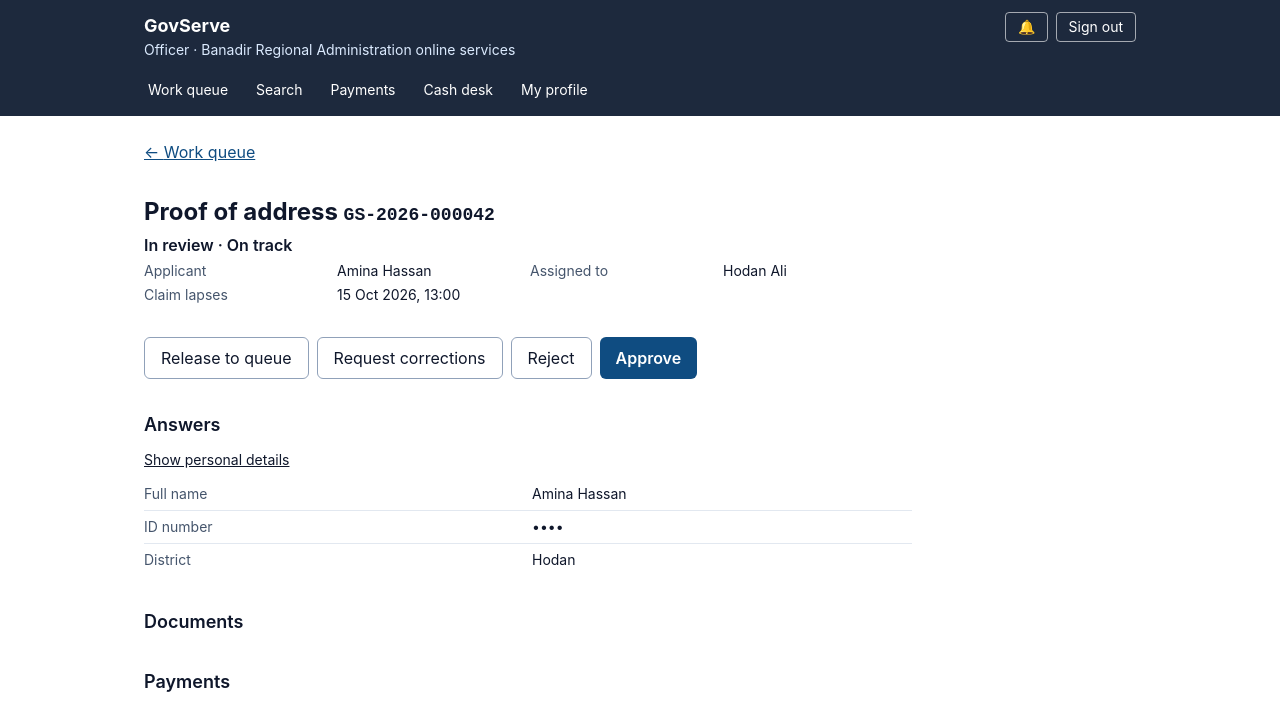
officer review page › should send flagged items when requesting corrections
The width and height of the screenshot is (1280, 706).
Click the button "Request corrections". click: (410, 358)
box: left=317, top=337, right=503, bottom=379
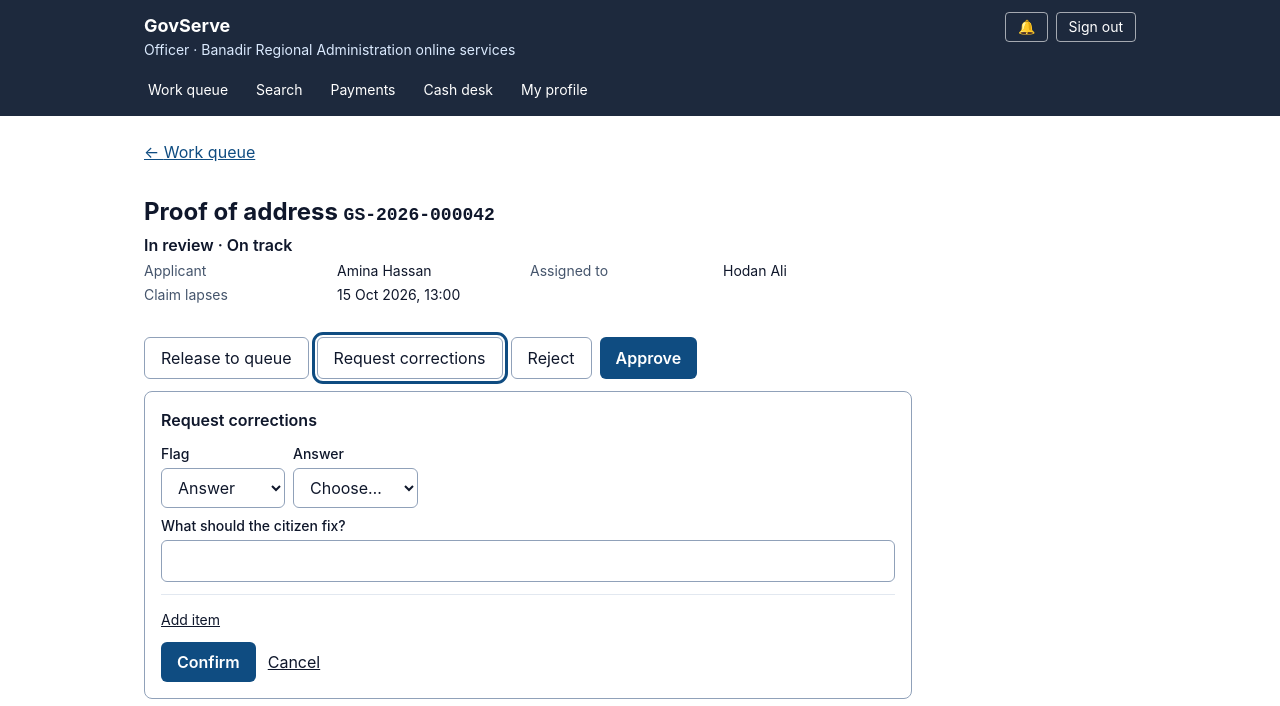
Select "District" in the dropdown labelled "Answer". click: (356, 488)
box: left=293, top=468, right=418, bottom=508
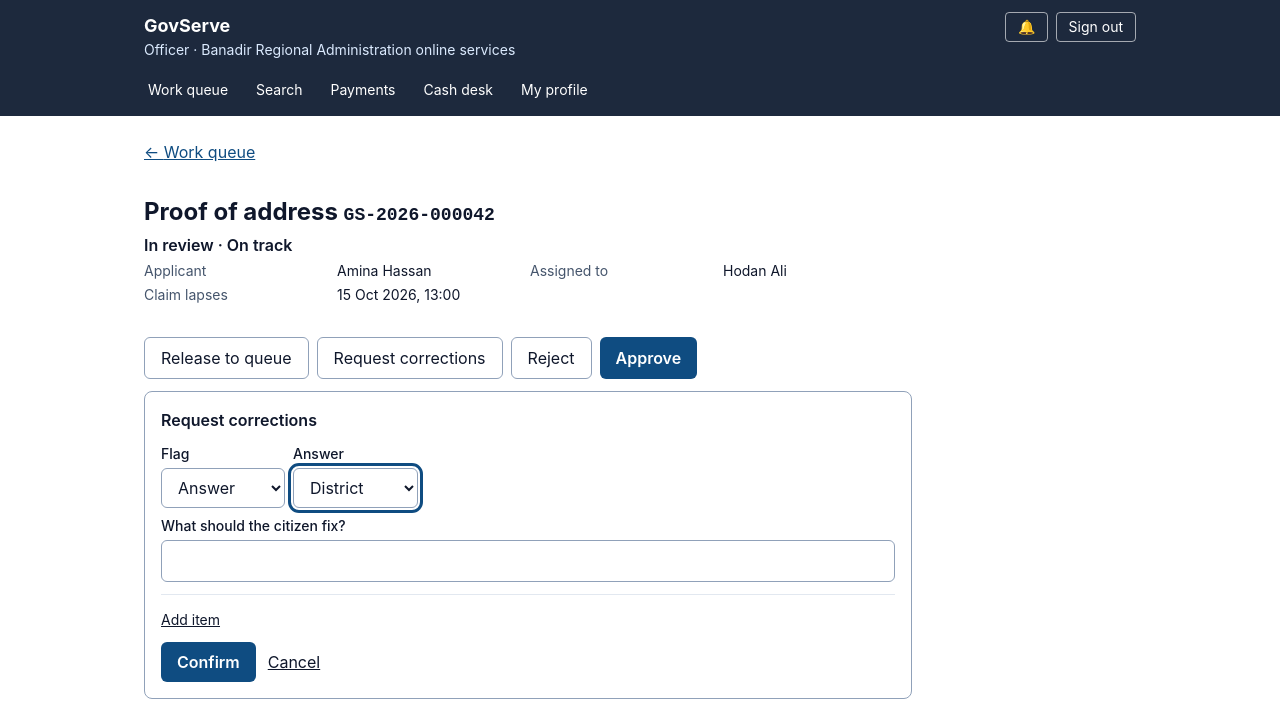
Type "Give the district" into the field labelled "What should the citizen fix?". click: (528, 561)
box: left=161, top=540, right=895, bottom=582
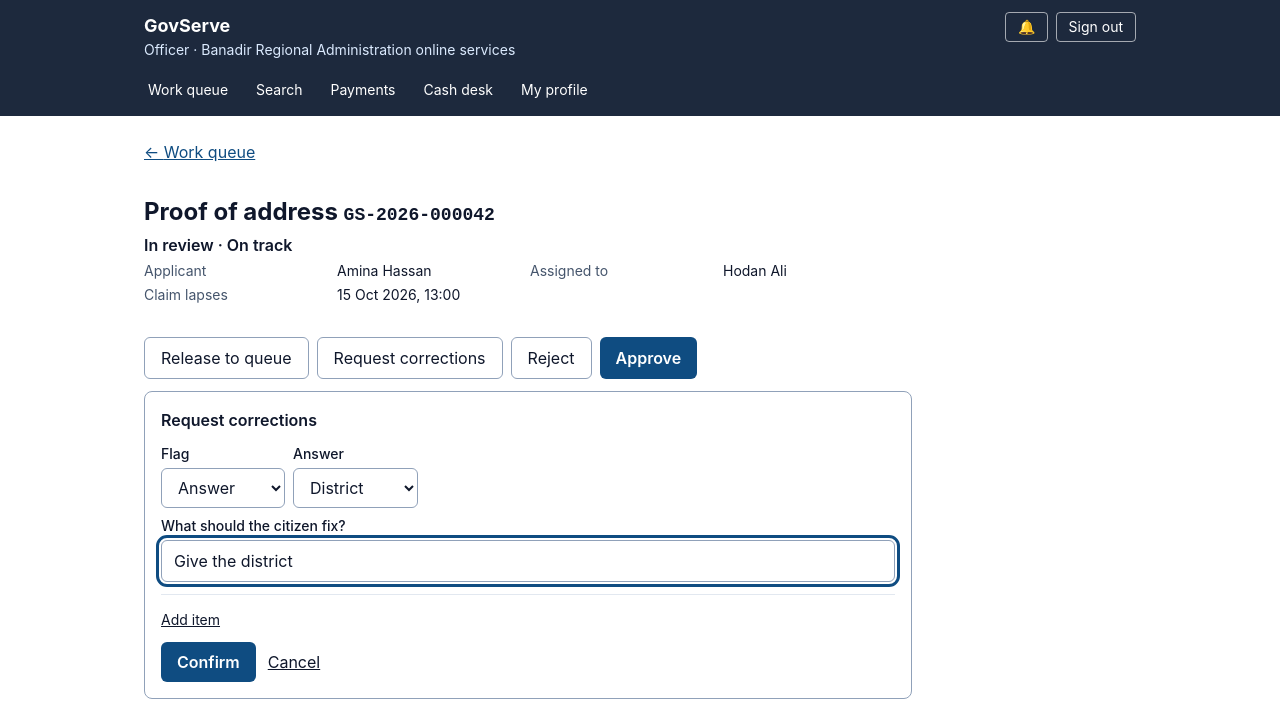
Click the button "Confirm". click: (208, 662)
box: left=161, top=642, right=256, bottom=682
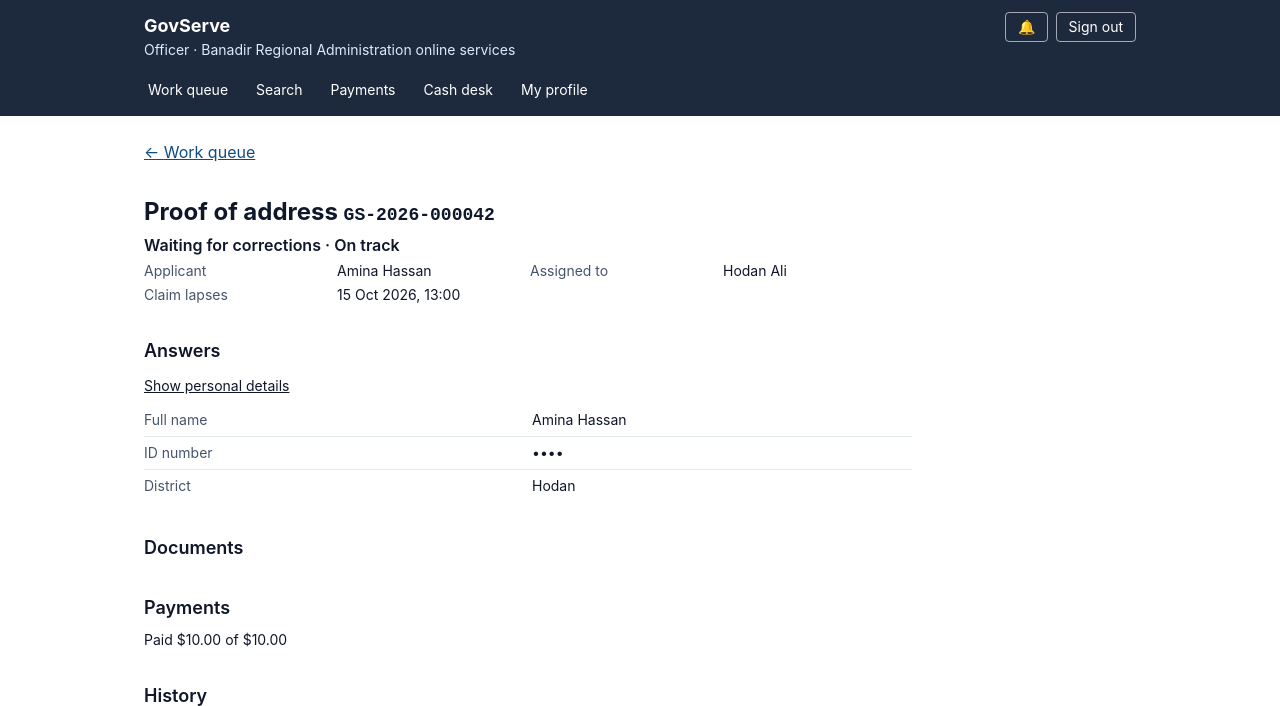
Result: the text "Waiting for corrections" is shown at left=144, top=235, right=321, bottom=255
